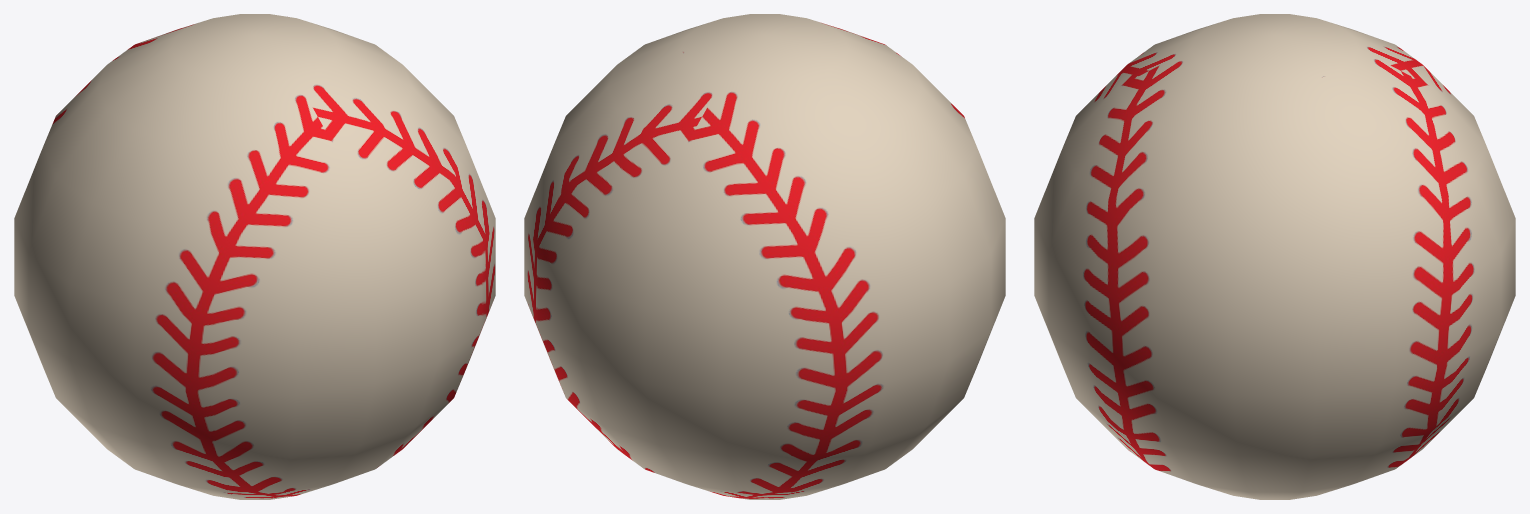
Rendered from SM_Baseball.FBX.
3 renders of one model, left to right at view 1: azimuth 30°, elevation 25°; view 2: azimuth 150°, elevation 25°; view 3: azimuth 270°, elevation 25°, orthographic.
Parts seen in each view (by area): view 1: toyball; view 2: toyball; view 3: toyball.
Part boxes in pixels (x1,y1,x2,y2): toyball: [14, 14, 495, 499]; toyball: [524, 14, 1005, 499]; toyball: [1034, 14, 1515, 499].
Size of the model in its own units: 31.13 by 32.1 by 31.61.
